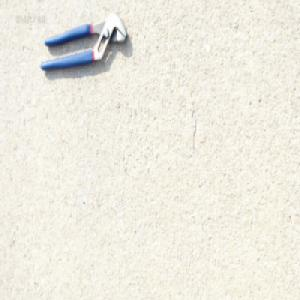Pliers: (38, 11, 127, 71)
